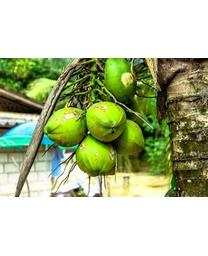coconut: (84, 100, 126, 142), (42, 109, 89, 146), (75, 135, 118, 175), (98, 58, 138, 100), (112, 119, 149, 159)
